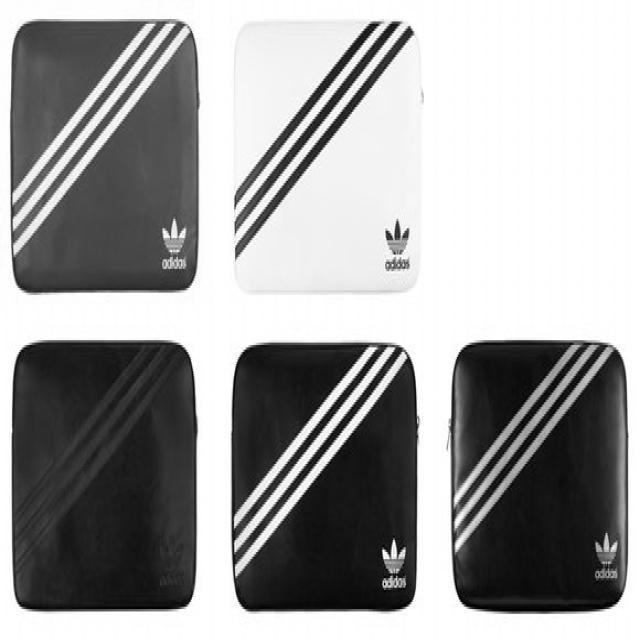Adidas: (158, 210, 192, 260), (380, 219, 414, 260), (592, 526, 620, 574), (380, 533, 408, 580)
